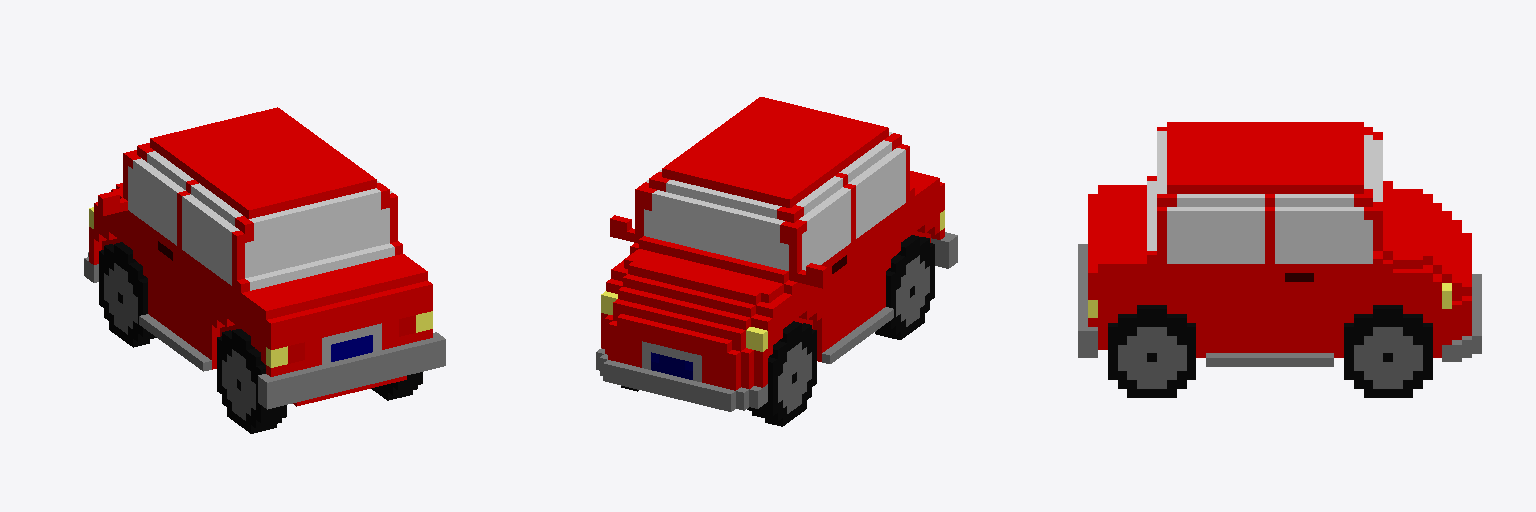
3 views of the same model, side by side, from view 1: azimuth 30°, elevation 25°; view 2: azimuth 150°, elevation 25°; view 3: azimuth 270°, elevation 25° (orthographic).
Parts seen in each view (by area): view 1: gglive_car; view 2: gglive_car; view 3: gglive_car.
Boxes of the visible parts, <box> form: gglive_car: <box>84,107,445,433</box>; gglive_car: <box>596,97,957,426</box>; gglive_car: <box>1078,122,1481,397</box>.
Size of the model in its own units: 25 by 23 by 41.
Materials: 1 (1 with a texture image).